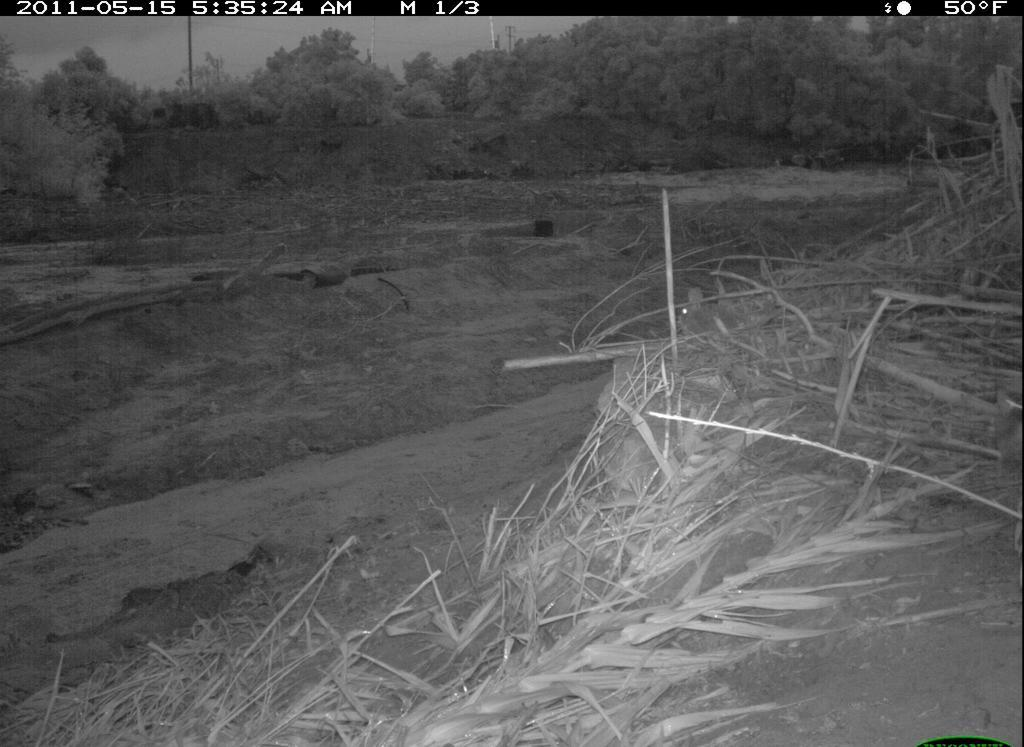rabbit: (662, 274, 757, 349)
